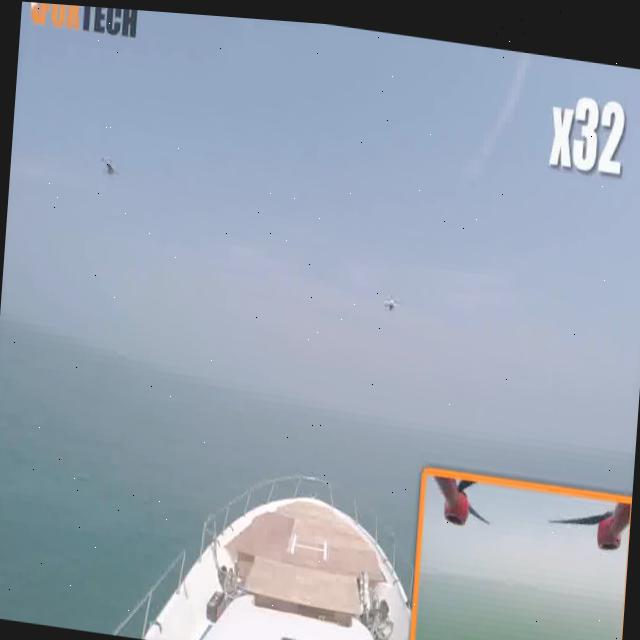drone: (94, 130, 126, 189), (376, 274, 408, 322)
